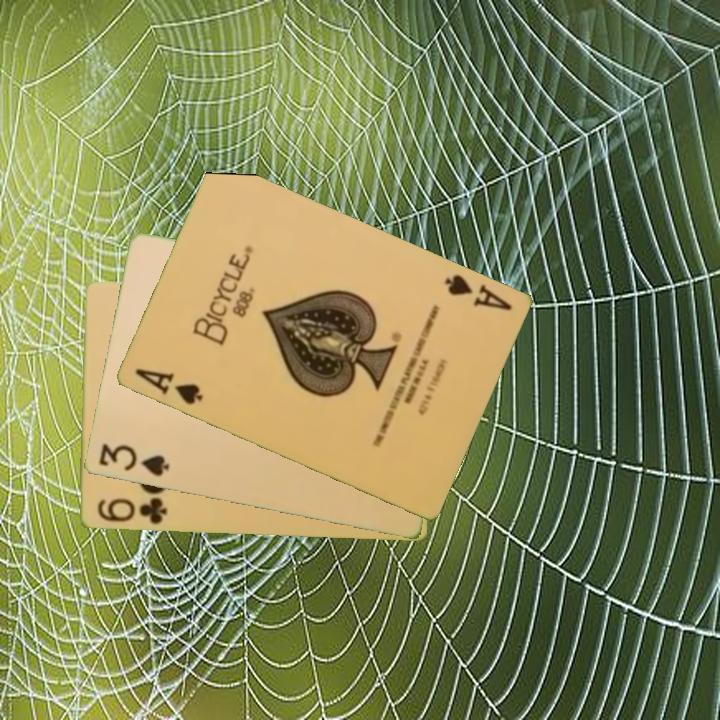3s: (95, 440, 172, 480)
6c: (93, 494, 170, 527)
As: (131, 365, 206, 408), (440, 271, 515, 314)
